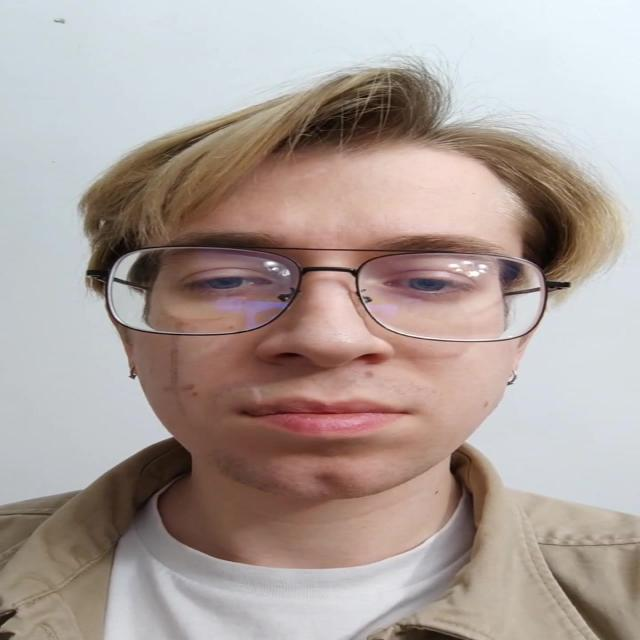eye: (383, 277, 476, 297), (185, 274, 272, 292)
nose: (262, 357, 384, 397)
